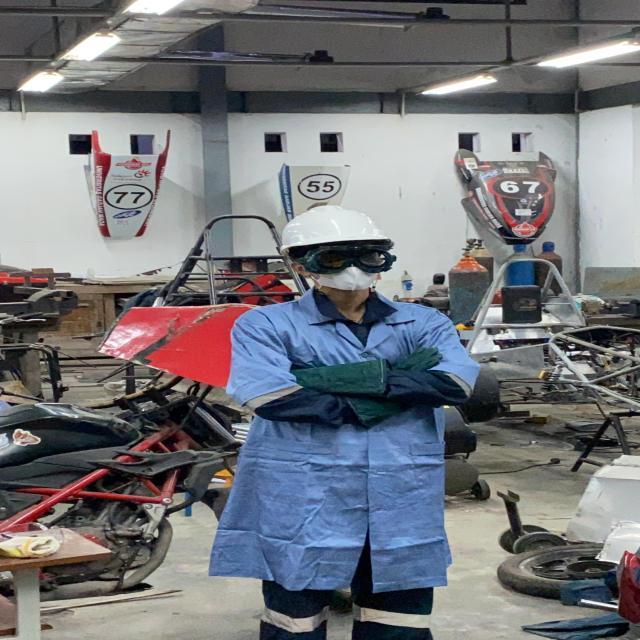glasses: (286, 243, 402, 273)
